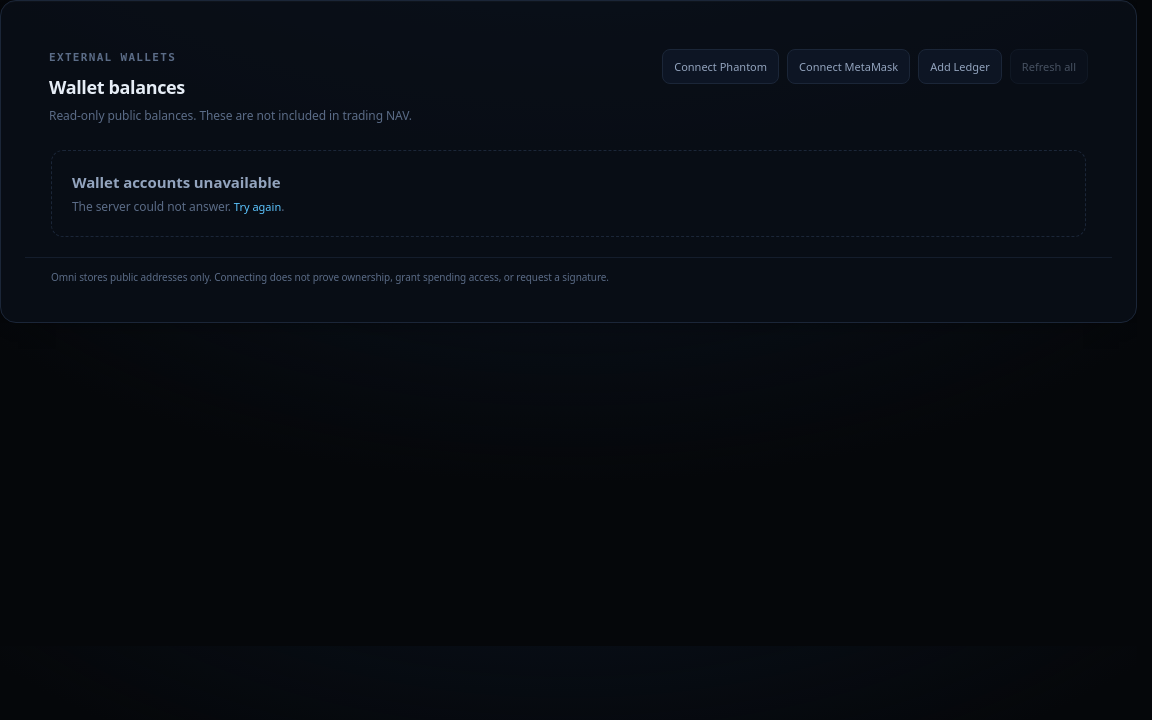
rendered failure and empty states › names a failed wallet load and recovers through retry
The width and height of the screenshot is (1152, 720).
Expected: the text "No external wallets tracked" is not shown
Click the button "Try again": (258, 206) [234,198,281,215]
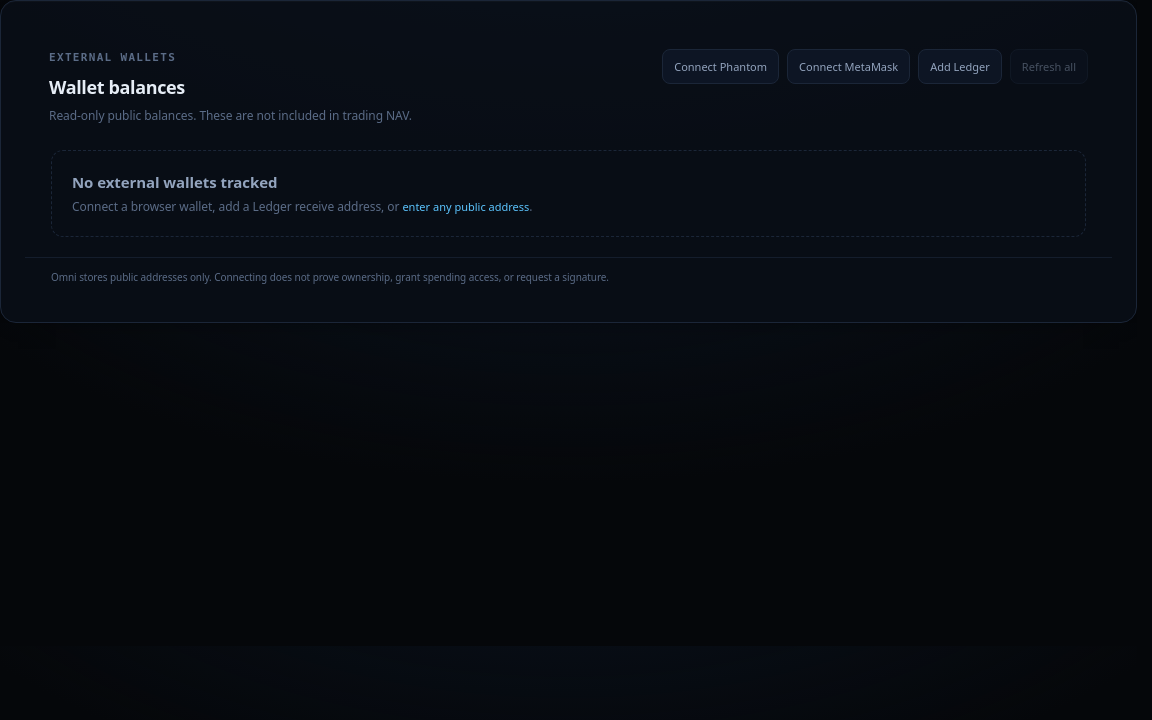
Result: the text "No external wallets tracked" is shown at [72,172,277,192]
